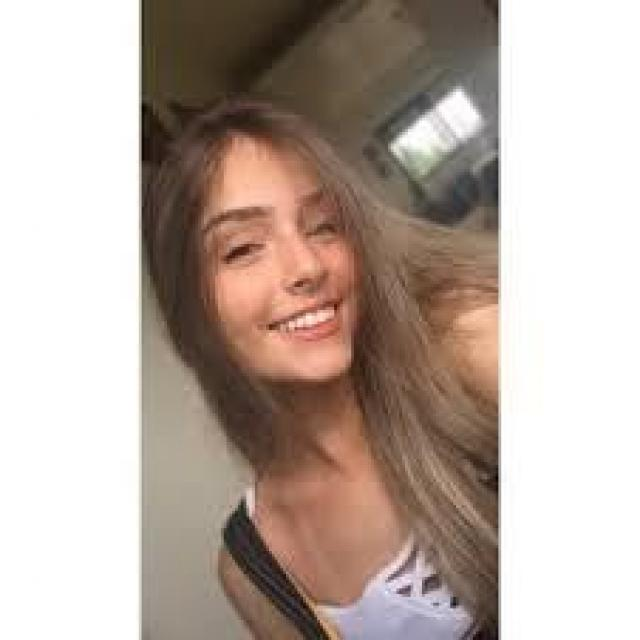person: (147, 98, 493, 637)
